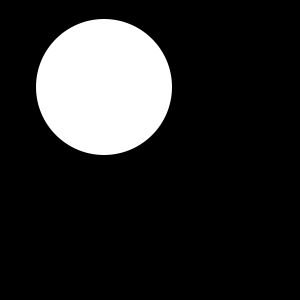rectangle: (36, 19, 172, 155)
